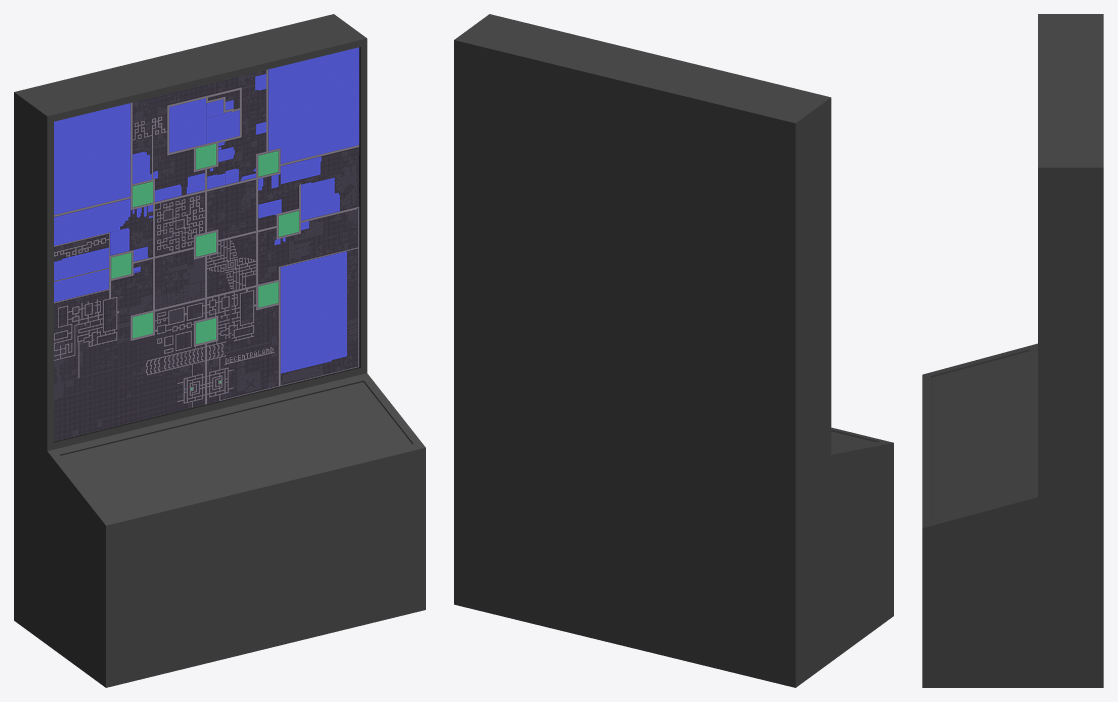
3 renders of one model, left to right at view 1: azimuth 30°, elevation 25°; view 2: azimuth 150°, elevation 25°; view 3: azimuth 270°, elevation 25°, orthographic. The views are drawn at different scales.
Parts seen in each view (by area): view 1: map; view 2: map; view 3: map.
Part boxes in pixels (<box>): map: <box>14,14,425,687</box>; map: <box>454,14,893,687</box>; map: <box>922,14,1103,687</box>.
Size of what is drawn, in the model's own units: 1.7 by 2.69 by 0.8488.
2 materials, 2 textured.
